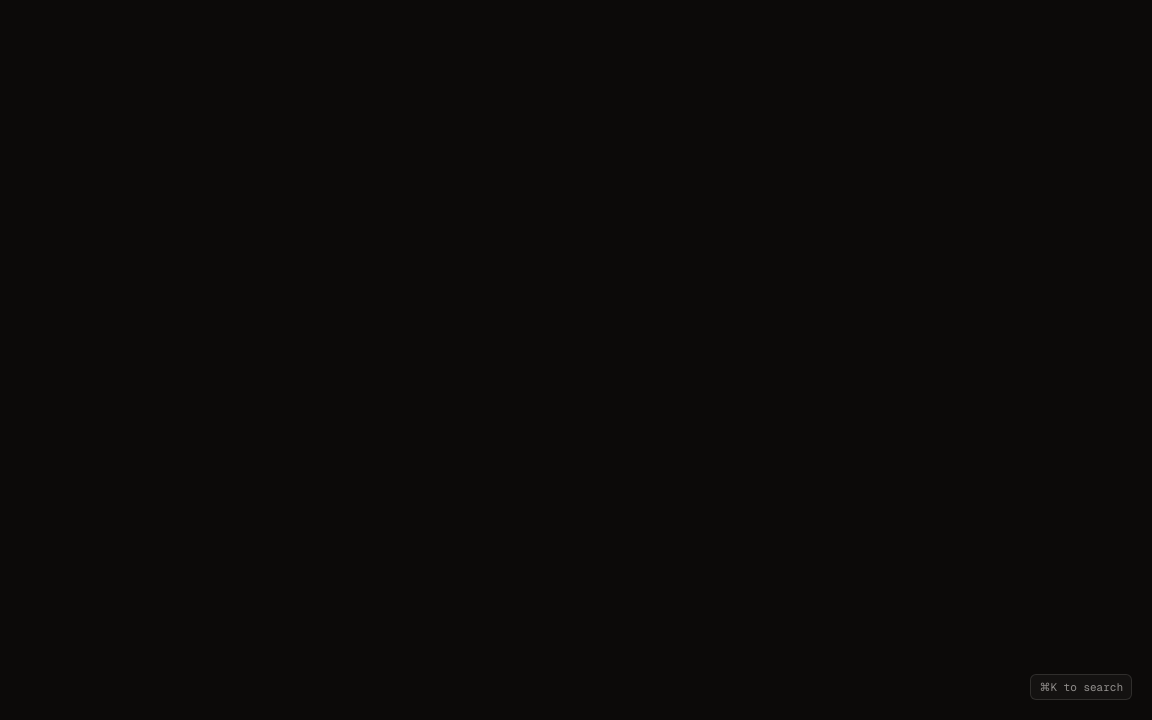
Test case: CommandPalette › closes on Escape and on a backdrop click
Press k
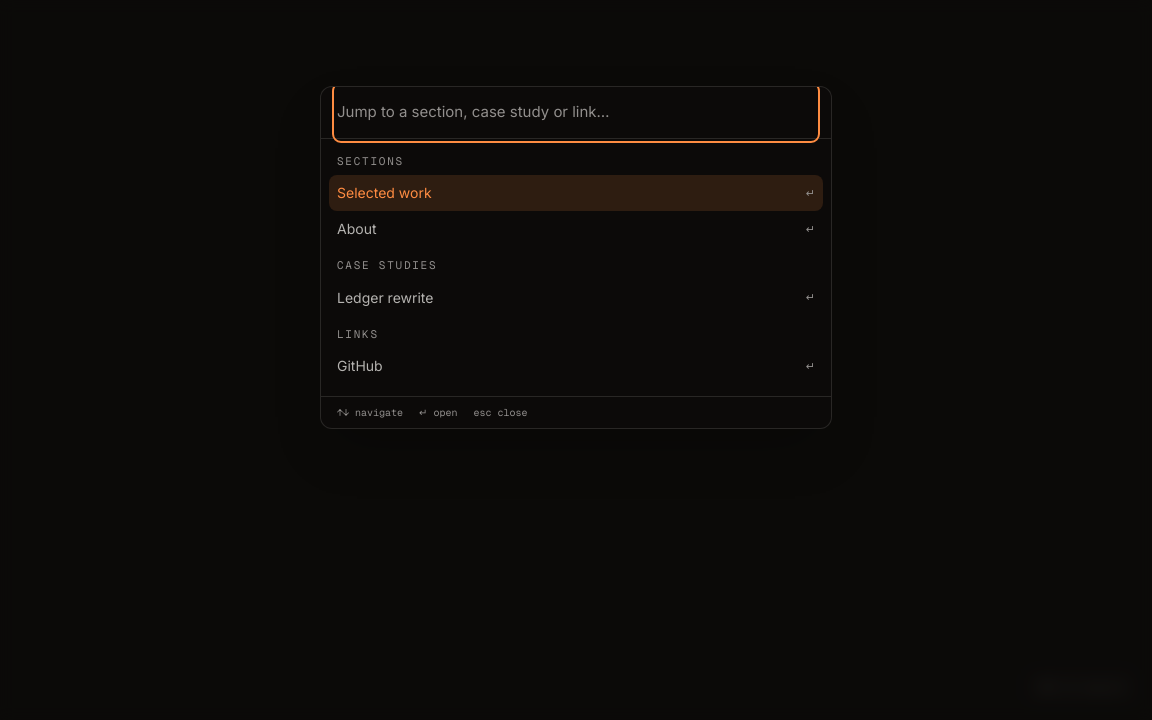
Press Escape
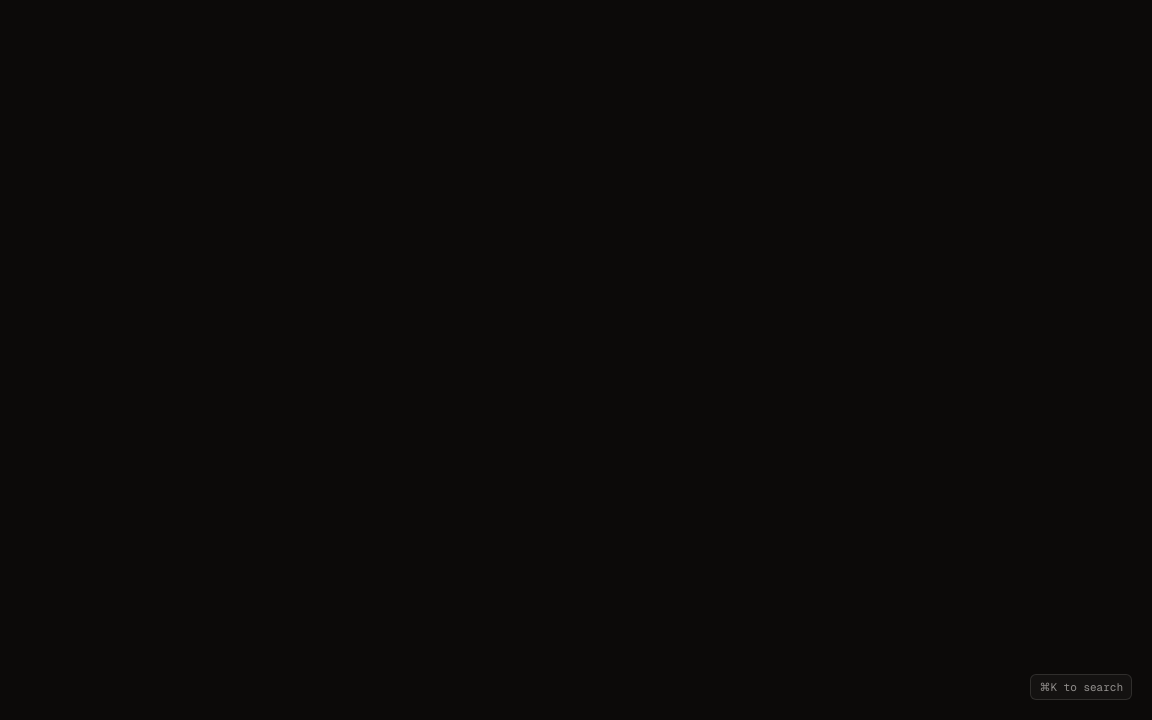
Expected: the dialog is gone
Press k
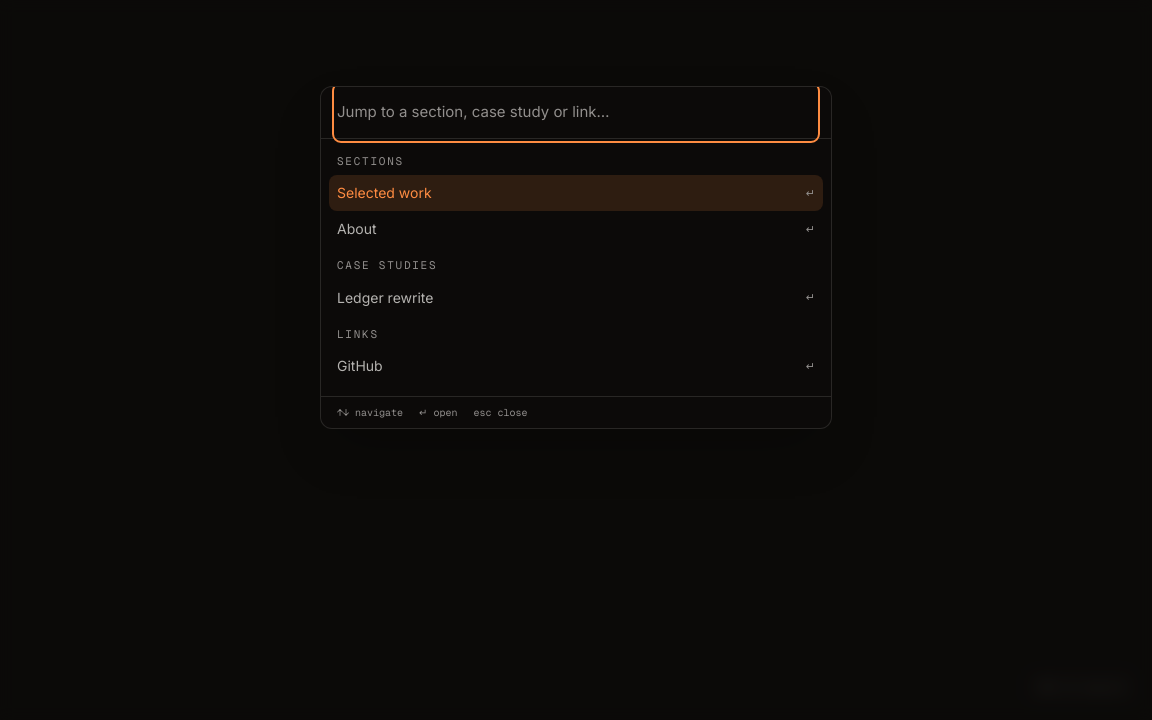
Click the element with test id "command-palette-backdrop": (69, 360) x1=0 y1=0 x2=1151 y2=719
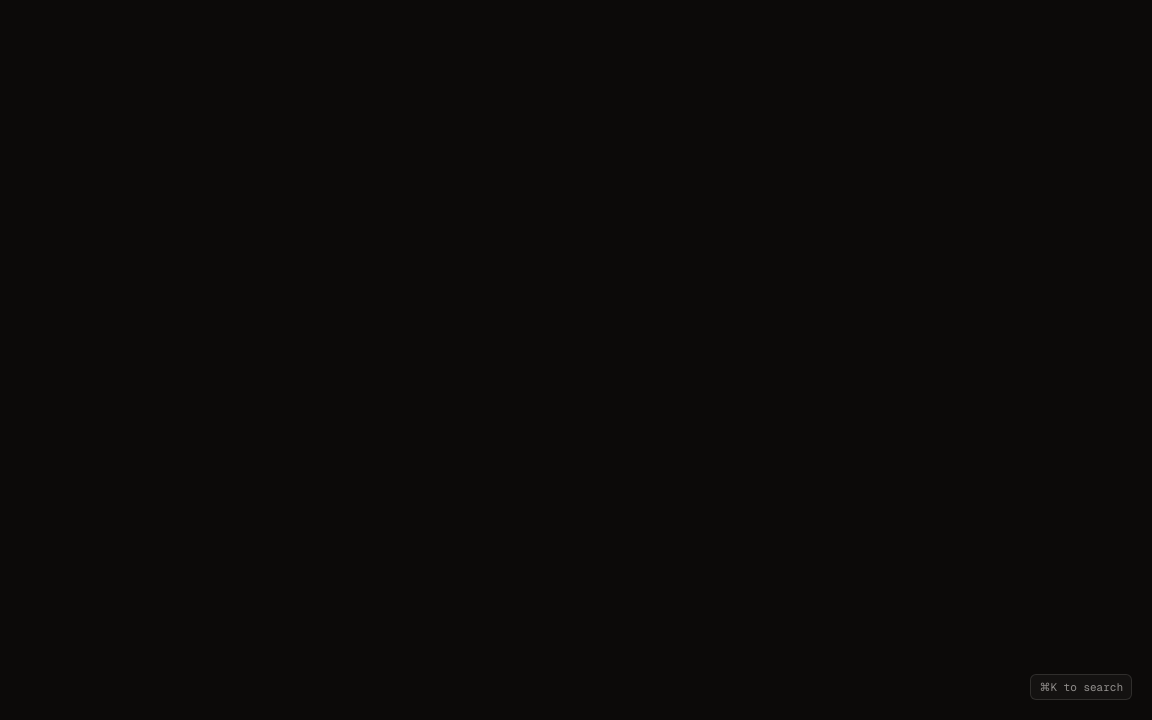
Expected: the dialog is gone
